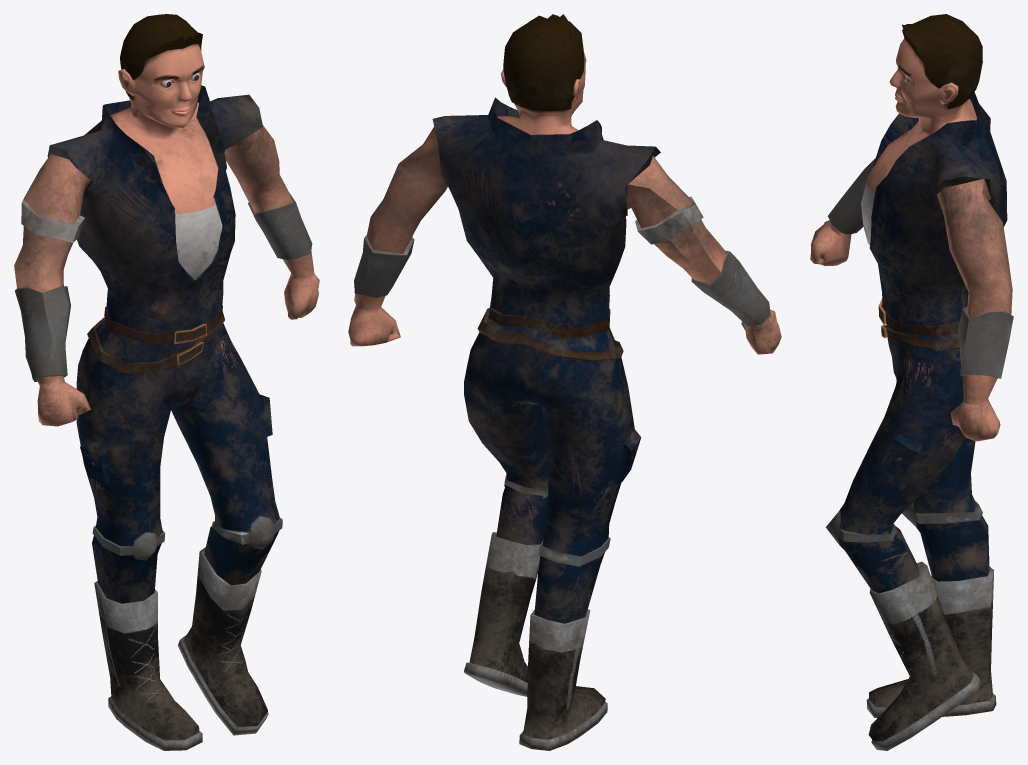
The model's file is Anim_andar_jugador.0030.obj.
3 renders of one model, left to right at view 1: azimuth 30°, elevation 25°; view 2: azimuth 150°, elevation 25°; view 3: azimuth 270°, elevation 25°, orthographic.
Visible parts, largest first — view 1: Anim_andar_jugador; view 2: Anim_andar_jugador; view 3: Anim_andar_jugador.
Part boxes in pixels (box(x1,y1,x2,y2)): Anim_andar_jugador: box(14, 14, 319, 750); Anim_andar_jugador: box(348, 14, 781, 750); Anim_andar_jugador: box(810, 14, 1013, 750).
Bounding box in the file's own units: 5.06 × 9.71 × 2.56.
